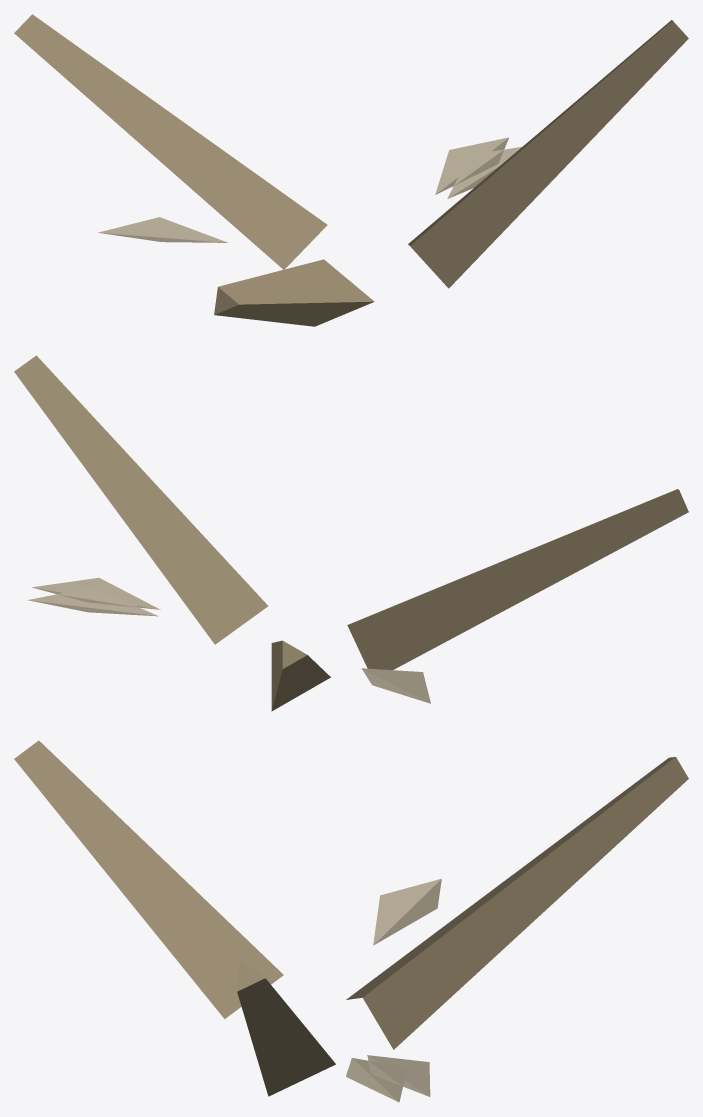
File: guan.yueju@withered__spring.glb
3 renders of one model, top to bottom at view 1: azimuth 30°, elevation 25°; view 2: azimuth 150°, elevation 25°; view 3: azimuth 270°, elevation 25°, orthographic. The views are drawn at different scales.
Parts seen in each view (by area): view 1: guan.yueju@withered__spring; view 2: guan.yueju@withered__spring; view 3: guan.yueju@withered__spring.
Part boxes in pixels (left/top/right/bottom): guan.yueju@withered__spring: left=14, top=14, right=688, bottom=326; guan.yueju@withered__spring: left=14, top=355, right=688, bottom=711; guan.yueju@withered__spring: left=14, top=740, right=688, bottom=1102.
Bounding box in the file's own units: 0.4165 × 0.1612 × 0.3889.
